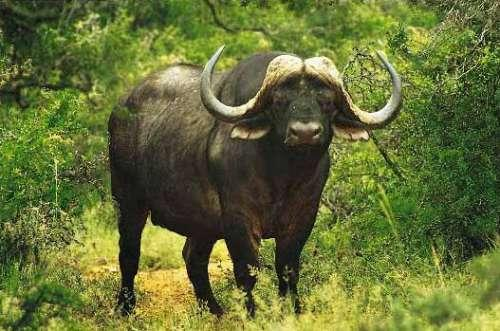Buffalo: (109, 0, 443, 328)
